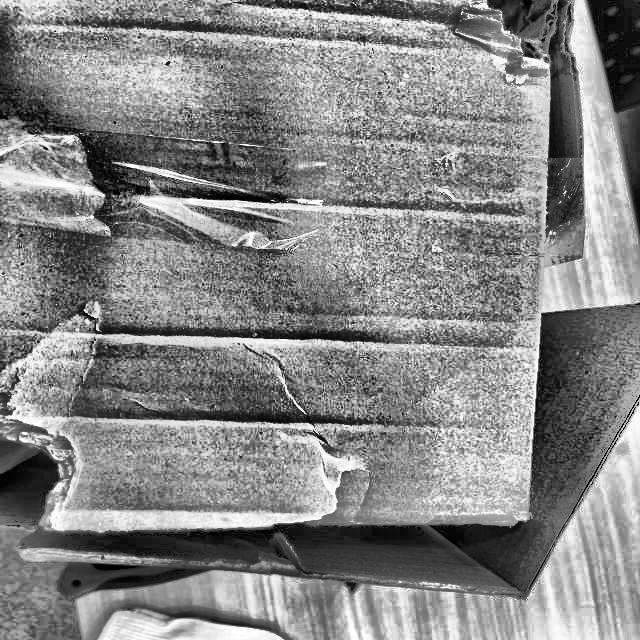box: (0, 0, 568, 605)
hole: (1, 429, 329, 562)
